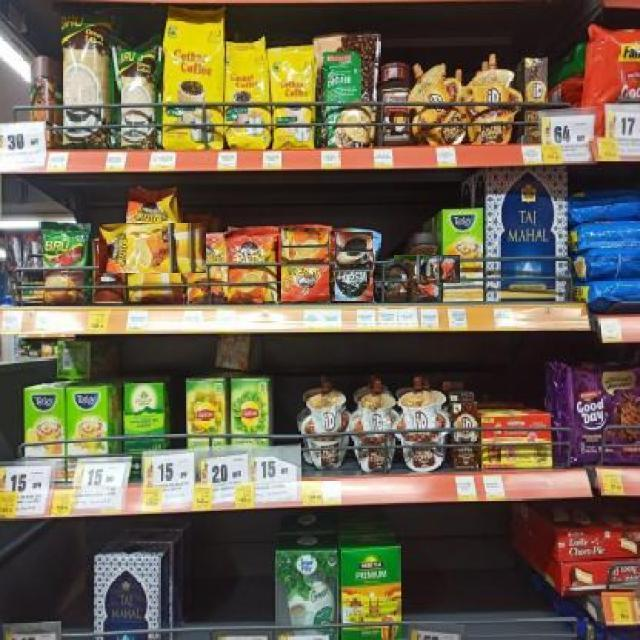Coffee: (99, 222, 206, 273), (280, 227, 329, 301), (229, 231, 275, 301), (334, 231, 373, 301), (394, 255, 460, 283), (385, 263, 409, 304)
